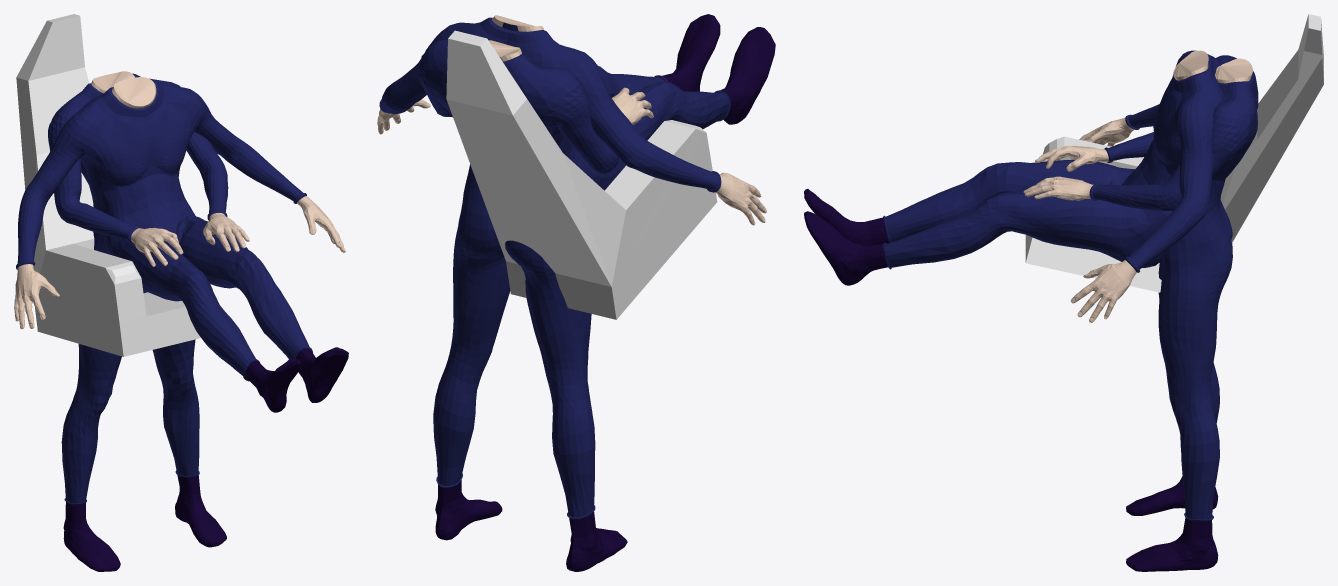
File: Male_Commander.fbx
The picture shows the model from 3 angles, left to right: view 1: azimuth 30°, elevation 25°; view 2: azimuth 150°, elevation 25°; view 3: azimuth 270°, elevation 25°; orthographic projection. The views are drawn at different scales.
Visible parts, largest first — view 1: Hero_Male:Body, Commander_Male_Emporer, CommandThrone; view 2: Hero_Male:Body, CommandThrone, Commander_Male_Emporer; view 3: Commander_Male_Emporer, Hero_Male:Body, CommandThrone.
Part boxes in pixels (<box>): Hero_Male:Body: <box>14,77,345,571</box>; Commander_Male_Emporer: <box>48,71,348,412</box>; CommandThrone: <box>16,14,200,356</box>; Hero_Male:Body: <box>377,15,766,571</box>; CommandThrone: <box>446,30,717,319</box>; Commander_Male_Emporer: <box>418,14,775,190</box>; Commander_Male_Emporer: <box>804,55,1258,285</box>; Hero_Male:Body: <box>1070,50,1232,571</box>; CommandThrone: <box>1025,14,1323,292</box>.
Size of the model in its own units: 1.16 by 1.65 by 1.52.
